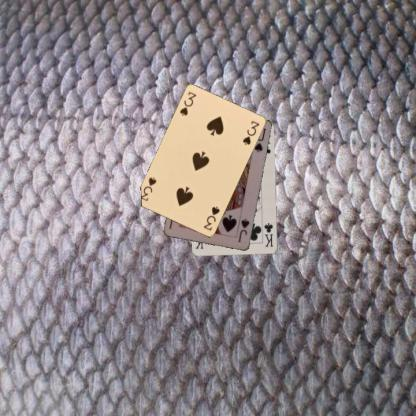3s: (176, 89, 198, 117), (201, 204, 221, 232)
Js: (235, 216, 252, 244)
Kc: (262, 221, 274, 248)
